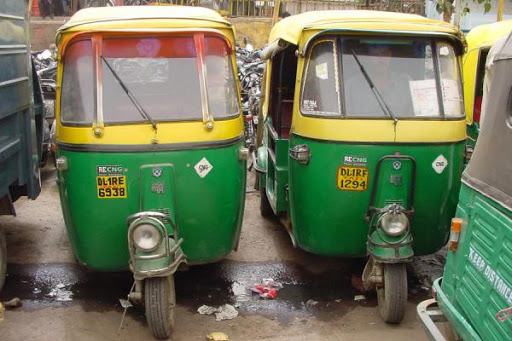doublelinenumberplate: (336, 164, 369, 191), (93, 174, 127, 198)
